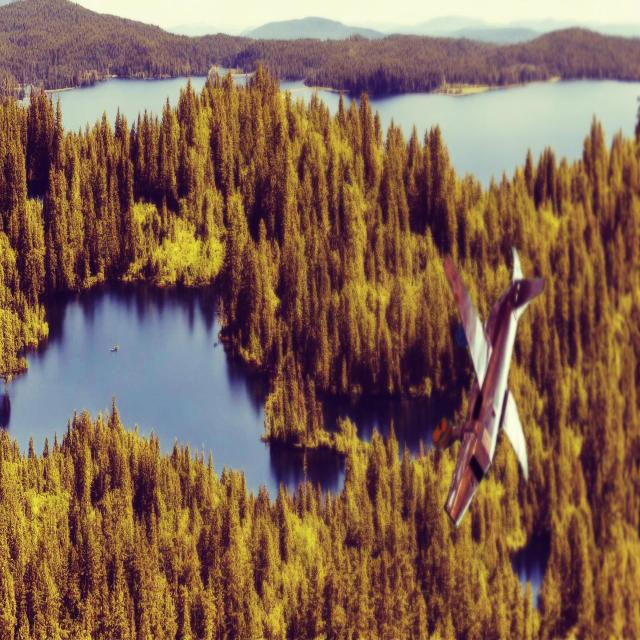airplane: (432, 245, 545, 528)
